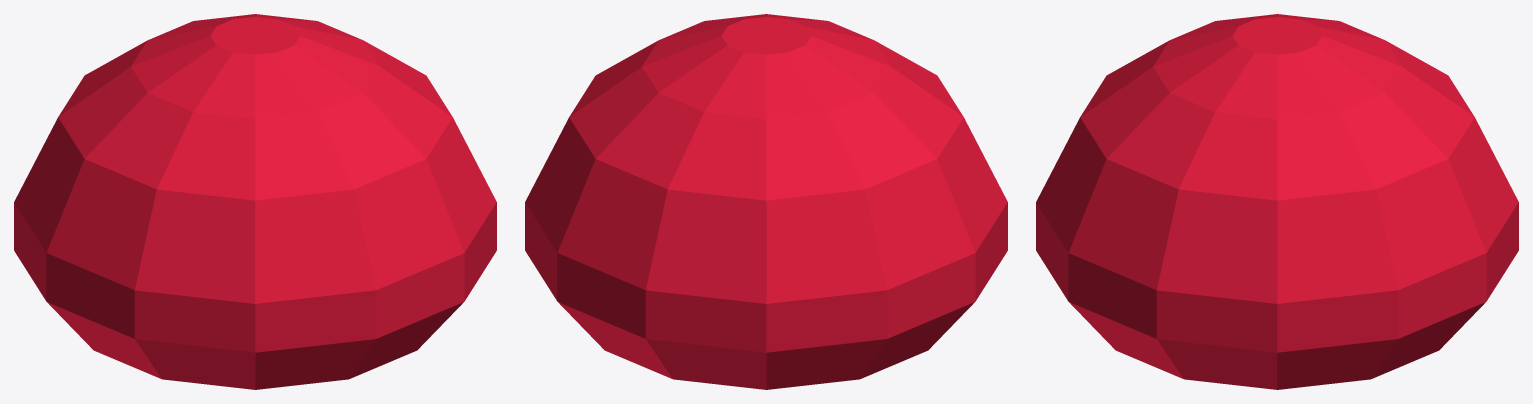
The model's file is slime.fbx.
The picture shows the model from 3 angles, left to right: view 1: azimuth 30°, elevation 25°; view 2: azimuth 150°, elevation 25°; view 3: azimuth 270°, elevation 25°; orthographic projection.
Parts seen in each view (by area): view 1: Cylinder; view 2: Cylinder; view 3: Cylinder.
Boxes of the visible parts, x1,y1,x2,y2 form: Cylinder: (14, 14, 496, 389); Cylinder: (525, 14, 1007, 389); Cylinder: (1036, 14, 1518, 389).
Bounding box in the file's own units: 647 × 407 × 647.
